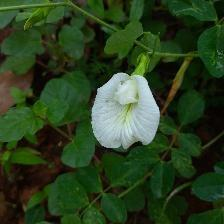shankupushpam: (90, 72, 164, 152)
